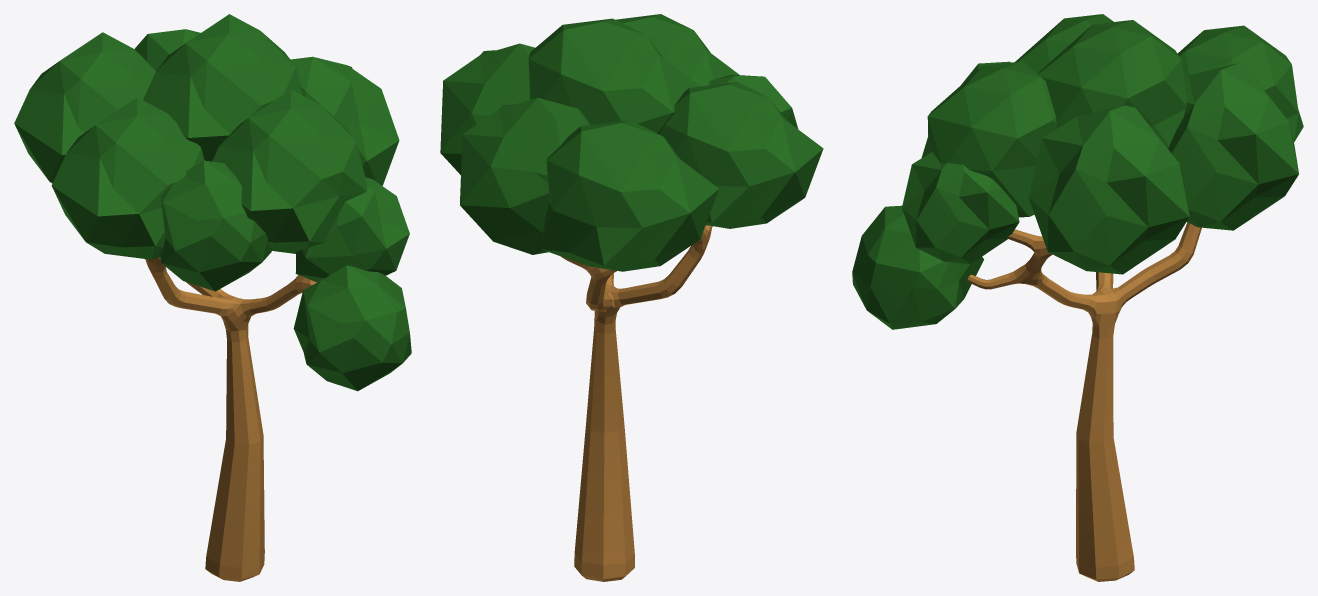
File: tree.160_lev4.glb
The picture shows the model from 3 angles, left to right: view 1: azimuth 30°, elevation 25°; view 2: azimuth 150°, elevation 25°; view 3: azimuth 270°, elevation 25°; orthographic projection. The views are drawn at different scales.
Visible parts, largest first — view 1: tree.160_lev4; view 2: tree.160_lev4; view 3: tree.160_lev4.
Boxes of the visible parts, left/top/right/bottom form: tree.160_lev4: left=14, top=14, right=411, bottom=581; tree.160_lev4: left=440, top=14, right=823, bottom=581; tree.160_lev4: left=852, top=14, right=1303, bottom=581.
Size of the model in its own units: 0.6276 by 1 by 0.7519.
